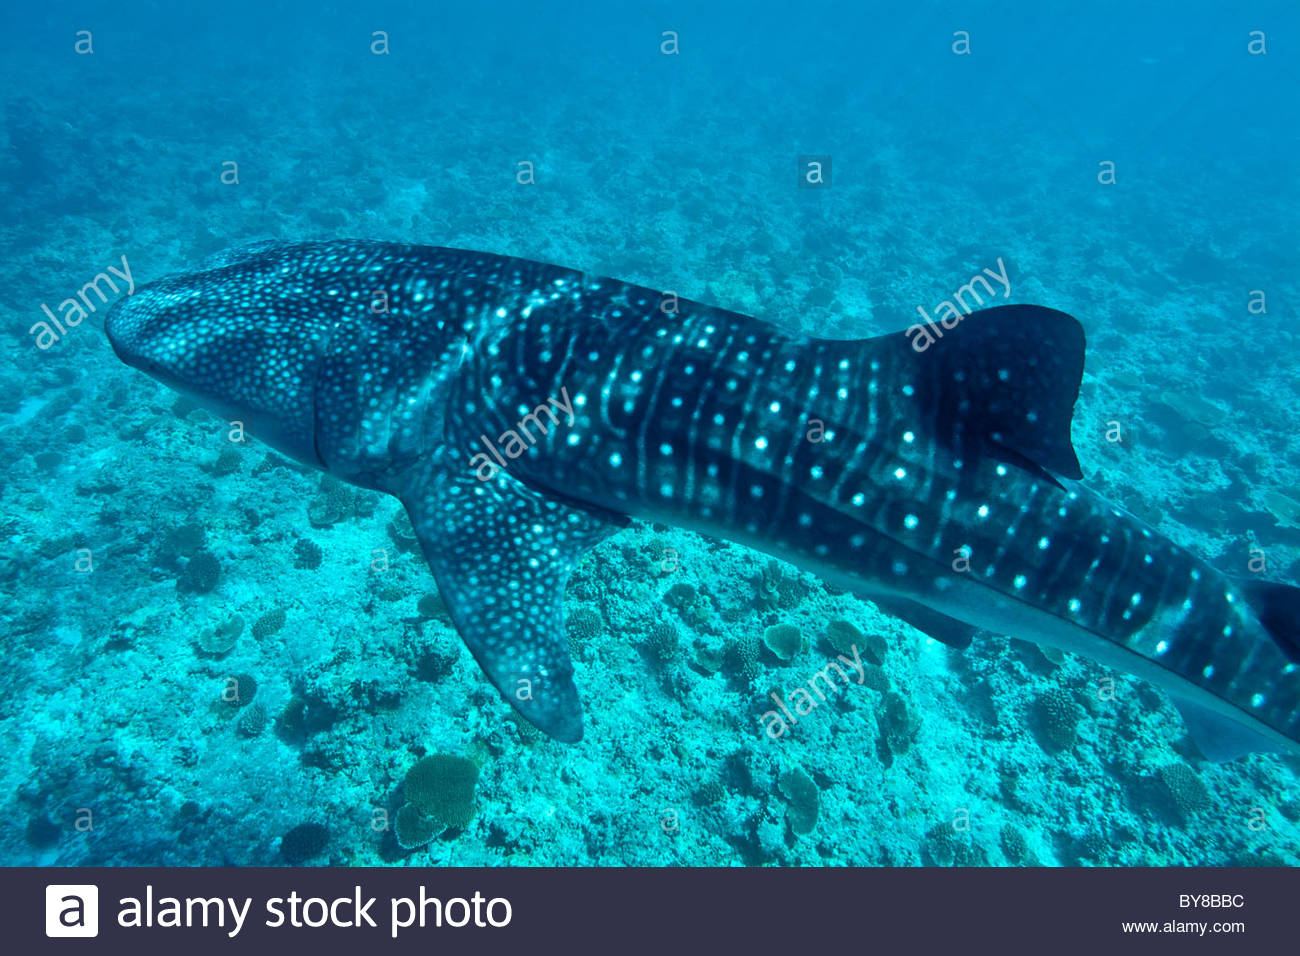Rhincodon_typusw: (84, 213, 1300, 796)
